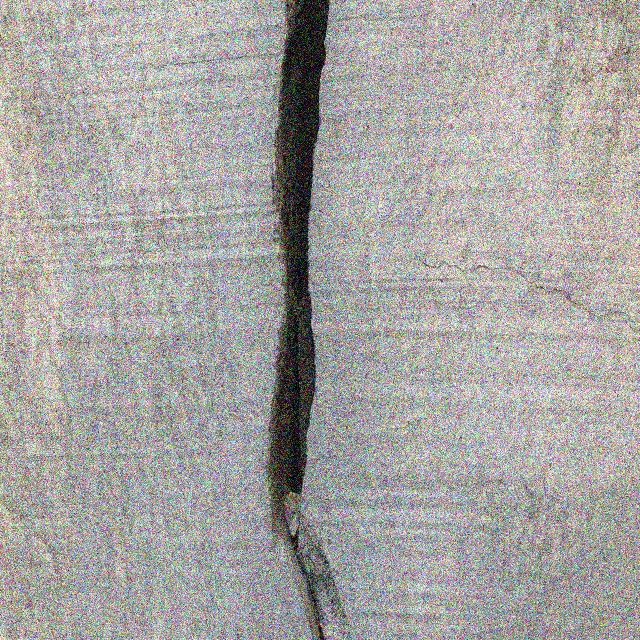SurfaceCrack: (217, 0, 388, 640), (375, 232, 640, 378)
